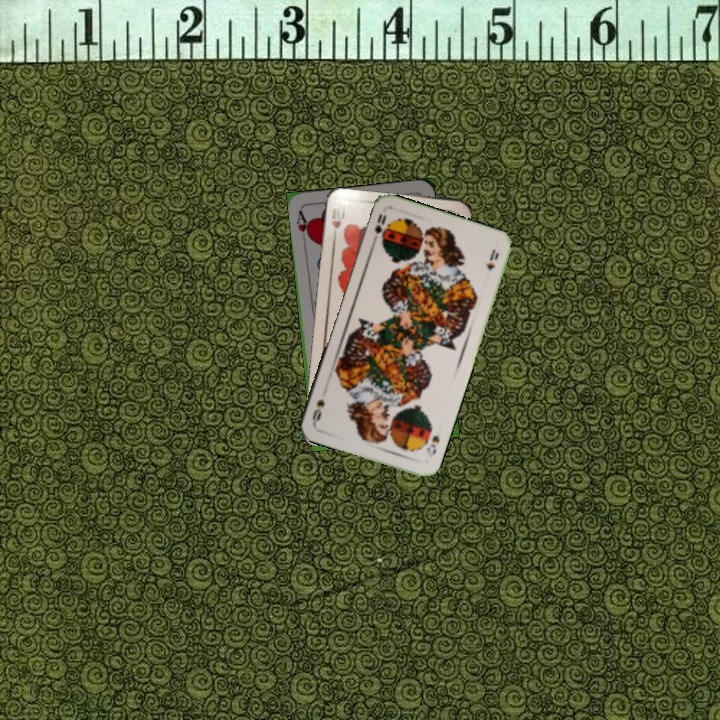H10: (327, 204, 346, 242)
HA: (292, 206, 314, 247)
SO: (368, 210, 389, 247), (422, 431, 442, 461)
